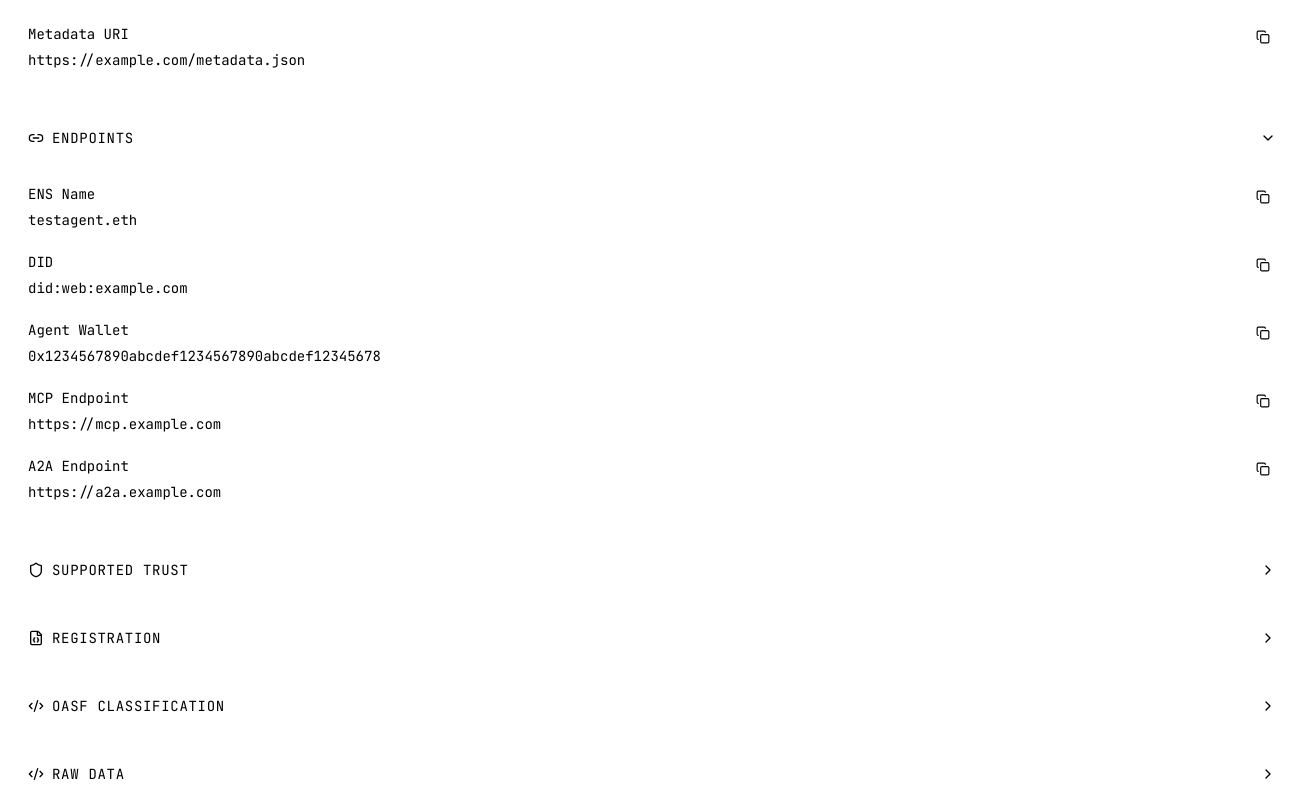
it: AgentMetadata › collapsible sections › toggles section when clicked
(page scrolled)
Expected: the text "Owner" is not shown
Click to expand
What coordinates should you click on to do the following:
click the button "Registration"
I would click on:
 (107, 638)
Its box is [12,612,1292,664].
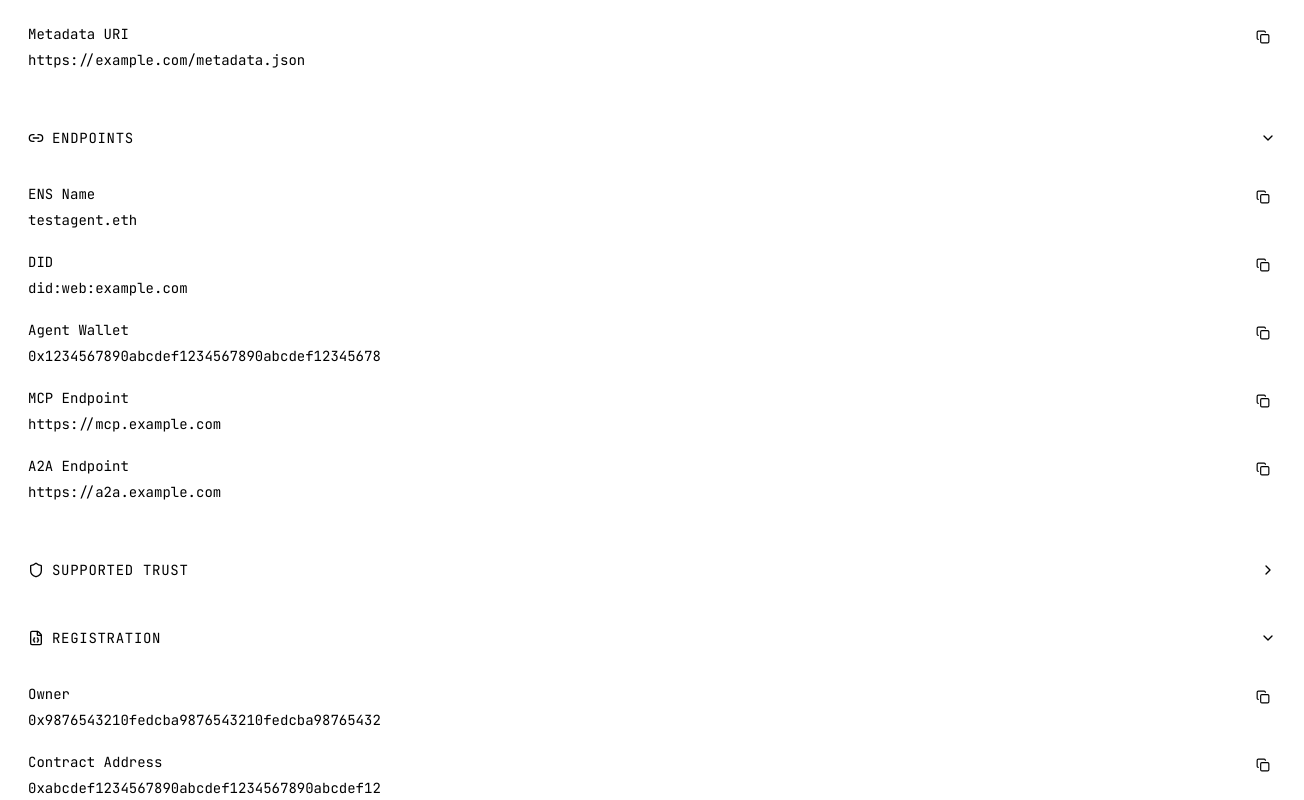
Now the text "Owner" is shown, box [28,685,70,703]
Click to collapse
What coordinates should you click on to do the following:
click the button "Registration"
I would click on:
 (107, 638)
Its box is [12,612,1292,664].
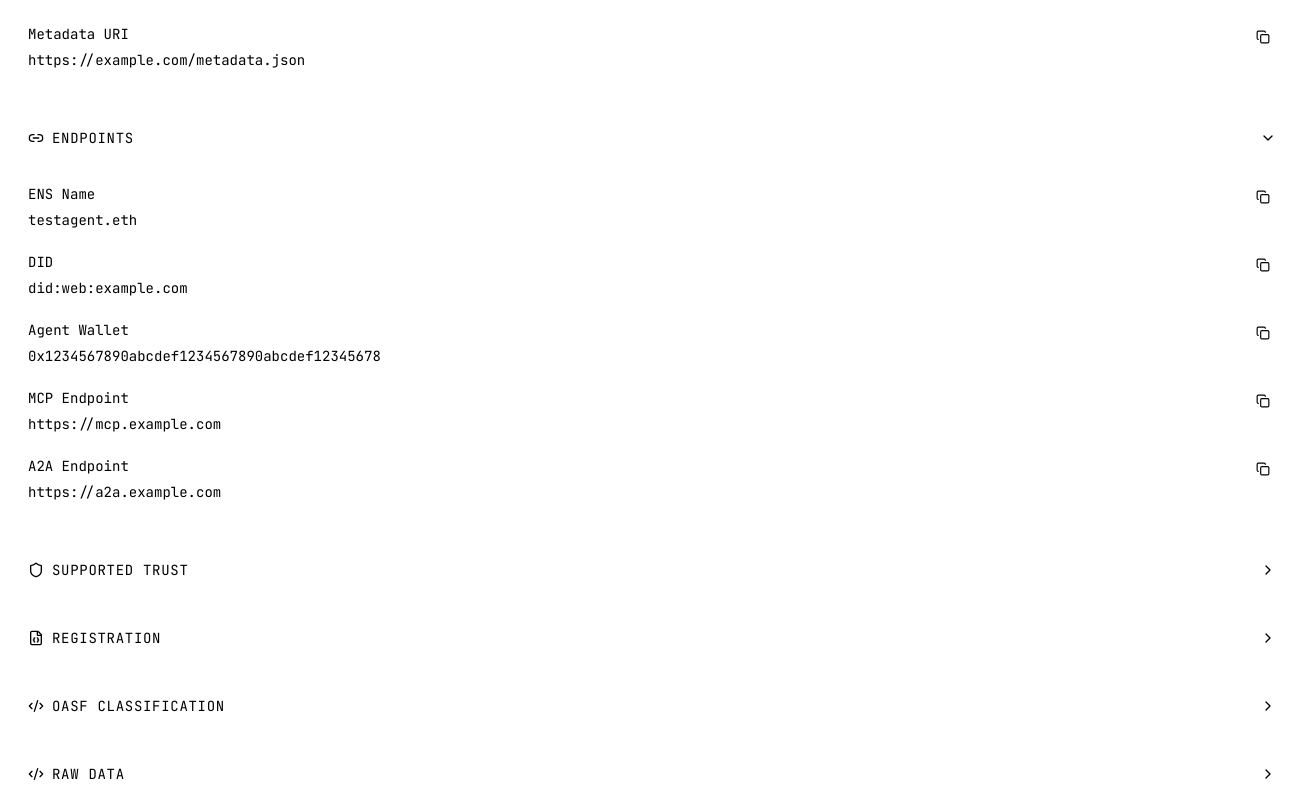
Now the text "Owner" is gone
